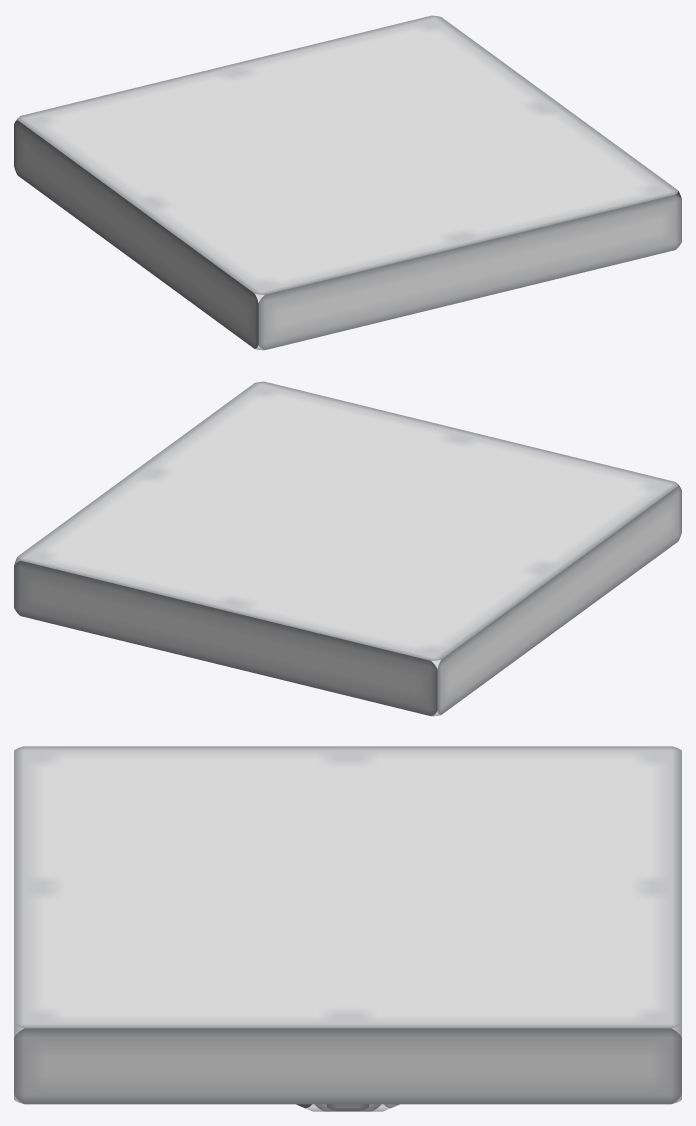
File: Platform.fbx
The picture shows the model from 3 angles, top to bottom: view 1: azimuth 30°, elevation 25°; view 2: azimuth 150°, elevation 25°; view 3: azimuth 270°, elevation 25°; orthographic projection. The views are drawn at different scales.
Visible parts, largest first — view 1: cube; view 2: cube; view 3: cube.
Boxes of the visible parts, x1,y1,x2,y2 form: cube: (14,15,681,350); cube: (14,381,681,716); cube: (14,746,681,1104).
Size of the model in its own units: 200 by 68.75 by 200.
1 material, 1 textured.
